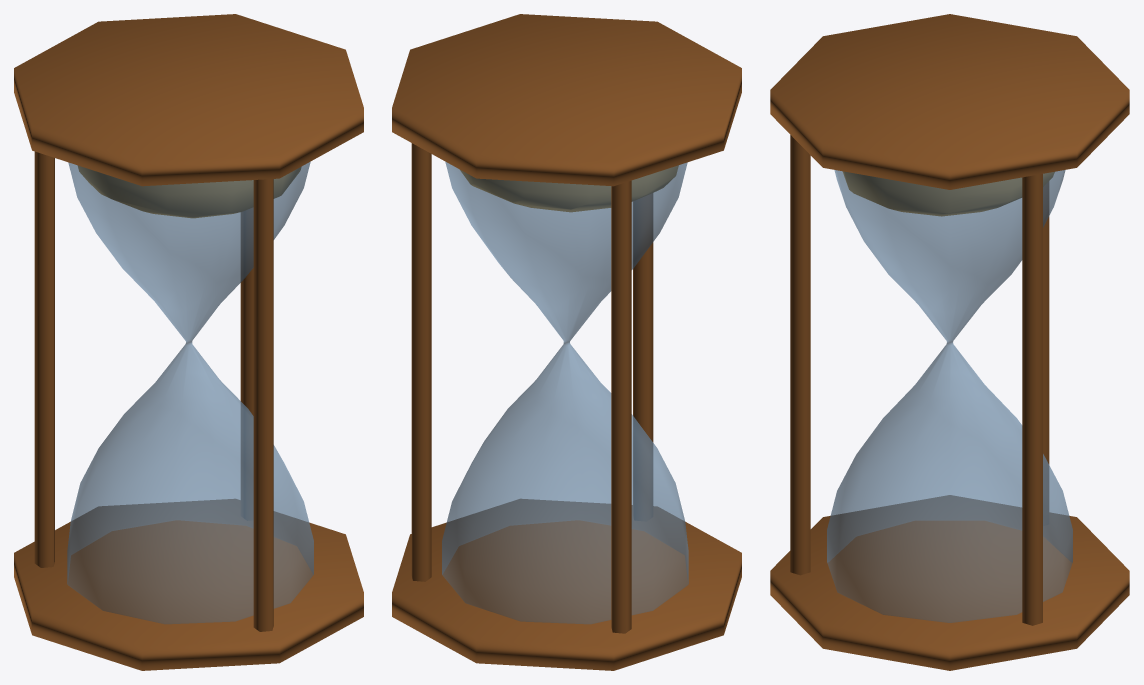
Rendered from Hourglass1.fbx.
3 renders of one model, left to right at view 1: azimuth 30°, elevation 25°; view 2: azimuth 150°, elevation 25°; view 3: azimuth 270°, elevation 25°, orthographic.
Visible parts, largest first — view 1: polySurface10, polySurface12, polySurface11, pCylinder9, pCylinder12, polySurface14, pCylinder10; view 2: polySurface10, polySurface12, polySurface11, pCylinder12, pCylinder10, pCylinder9, polySurface14; view 3: polySurface10, polySurface12, polySurface11, pCylinder10, pCylinder9, polySurface14, pCylinder12.
Part boxes in pixels (bbox=[...]): polySurface10: bbox=[67, 161, 313, 624]; polySurface12: bbox=[14, 14, 363, 186]; polySurface11: bbox=[14, 499, 363, 670]; pCylinder9: bbox=[253, 179, 273, 631]; pCylinder12: bbox=[34, 151, 54, 567]; polySurface14: bbox=[78, 165, 301, 218]; pCylinder10: bbox=[240, 208, 253, 520]; polySurface10: bbox=[442, 161, 688, 624]; polySurface12: bbox=[392, 14, 741, 186]; polySurface11: bbox=[392, 499, 741, 670]; pCylinder12: bbox=[611, 180, 631, 633]; pCylinder10: bbox=[411, 143, 431, 581]; pCylinder9: bbox=[633, 193, 653, 521]; polySurface14: bbox=[460, 165, 678, 212]; polySurface10: bbox=[827, 170, 1072, 622]; polySurface12: bbox=[770, 14, 1129, 189]; polySurface11: bbox=[770, 495, 1129, 670]; pCylinder10: bbox=[1022, 174, 1042, 625]; pCylinder9: bbox=[790, 135, 810, 575]; polySurface14: bbox=[843, 171, 1054, 216]; pCylinder12: bbox=[1043, 182, 1049, 525].
Bounding box in the file's own units: 8.51 × 13.19 × 8.51.
